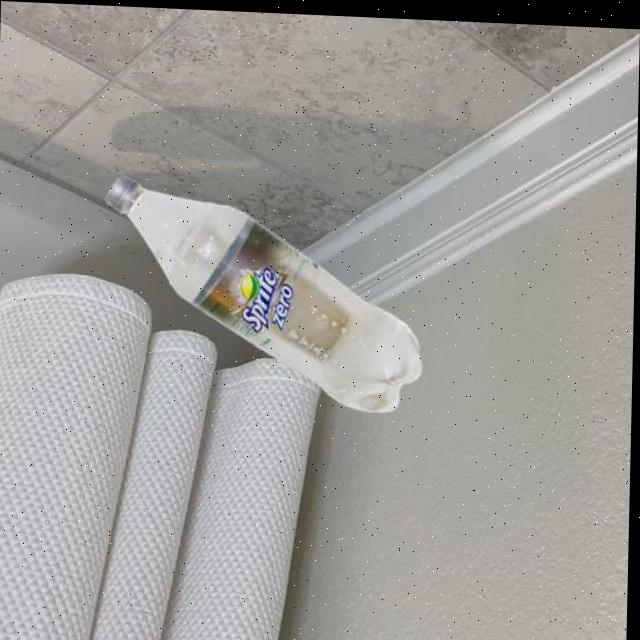bottle: (101, 170, 429, 413)
